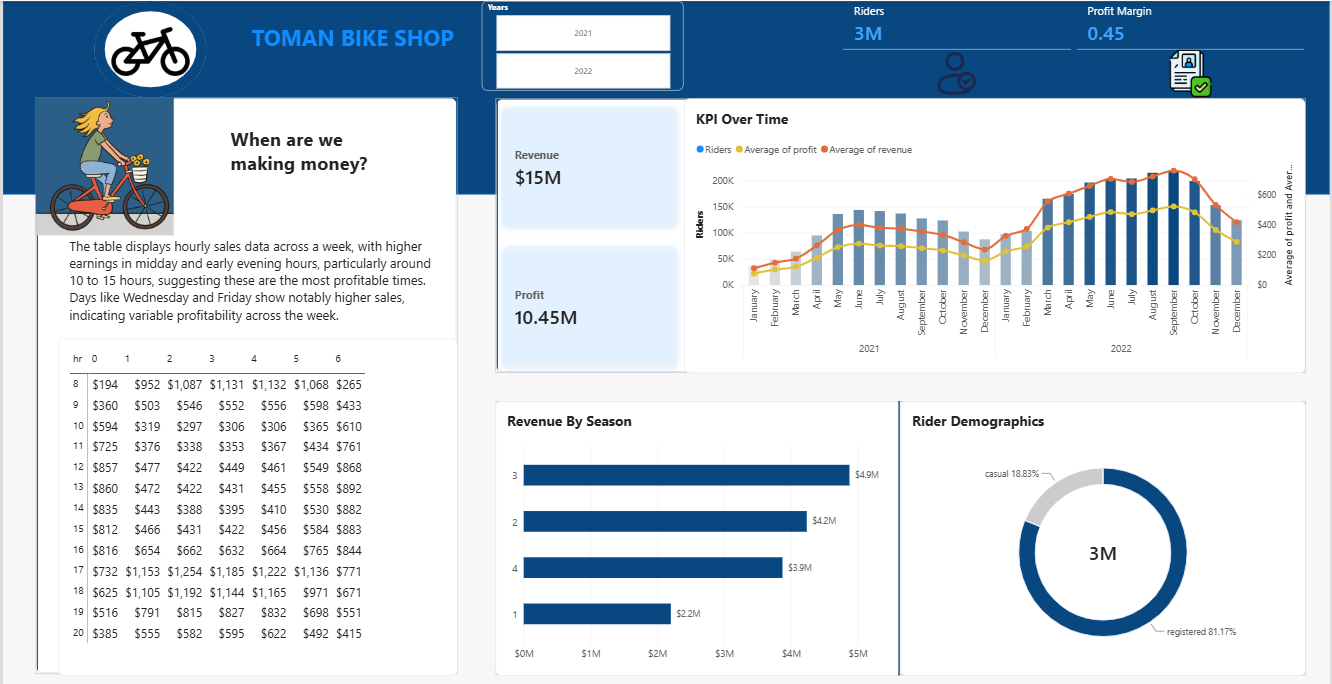

The page's visual inventory and layout, read from the dashboard file:
{"tool":"powerbi","page":{"name":"Page 1","canvas":[1920,1080],"ordinal":0},"visuals":[{"type":"shape","box":[0,0,1920.4,279.9],"z":0},{"type":"cardVisual","fields":{"Data":["Min(Query1.riders)"]},"box":[47.3,140,611.3,835.7],"z":1000},{"type":"cardVisual","fields":{"Data":["Min(Query1.riders)"]},"box":[712.2,142,1173.2,397.3],"z":2000},{"type":"cardVisual","fields":{"Data":["Min(Query1.riders)"]},"box":[712.2,578.4,1173.2,397.3],"z":3000},{"type":"pivotTable","fields":{"Columns":["Query1.weekday"],"Rows":["Query1.hr"],"Values":["Avg(Query1.revenue)"]},"box":[80.3,487.8,578.4,487.8],"z":5000},{"type":"textbox","box":[329.3,181.1,226.4,98.8],"z":6000},{"type":"textbox","box":[96.7,341.7,524.9,300.5],"z":7000},{"type":"lineClusteredColumnComboChart","title":"KPI Over Time","fields":{"Category":["Query1.dteday.Variation.Date Hierarchy.Year","Query1.dteday.Variation.Date Hierarchy.Month"],"Y":["Sum(Query1.riders)"],"Y2":["Avg(Query1.profit)","Avg(Query1.revenue)"]},"box":[985.9,142,899.5,397.3],"z":8000},{"type":"clusteredBarChart","title":"Revenue By Season","fields":{"Category":["Query1.season"],"Y":["Sum(Query1.revenue)"]},"box":[712.2,578.4,586.6,397.3],"z":9000},{"type":"donutChart","title":"Rider Demographics","fields":{"Category":["Query1.rider_type"],"Y":["Sum(Query1.riders)"]},"box":[1298.8,578.4,586.6,397.3],"z":10000},{"type":"shape","box":[1187.7,578.4,220.2,397.3],"z":11000},{"type":"cardVisual","title":"KPI Over Time","fields":{"Data":["Sum(Query1.revenue)","Sum(Query1.profit)"]},"box":[712.2,144.1,273.8,397.3],"z":12000},{"type":"cardVisual","fields":{"Data":["Sum(Query1.riders)","Query1.Profit Margin"]},"box":[1216.5,0,669,140],"z":13000},{"type":"shape","box":[131.7,0,162.6,140],"z":13001},{"type":"image","box":[152.3,16.5,123.5,113.2],"z":13002},{"type":"textbox","box":[360.2,30.9,300,300],"z":13003},{"type":"slicer","fields":{"Values":["Query1.Years"]},"box":[693.7,0,292.3,129.7],"z":13004},{"type":"image","box":[0,140,294.3,199.7],"z":13005}]}

Visuals, with their boxes on the page's 1920x1080 design canvas (x1, y1, x2, y2). These are canvas units, not pixel positions in the 1332x684 screenshot, which may show the page scaled, cropped or inside an application window:
shape: box=[0, 0, 1920, 280]
cardVisual - Min(Query1.riders): box=[47, 140, 659, 976]
cardVisual - Min(Query1.riders): box=[712, 142, 1885, 539]
cardVisual - Min(Query1.riders): box=[712, 578, 1885, 976]
pivotTable - Query1.weekday x Query1.hr: box=[80, 488, 659, 976]
textbox: box=[329, 181, 556, 280]
textbox: box=[97, 342, 622, 642]
"KPI Over Time" lineClusteredColumnComboChart: box=[986, 142, 1885, 539]
"Revenue By Season" clusteredBarChart: box=[712, 578, 1299, 976]
"Rider Demographics" donutChart: box=[1299, 578, 1885, 976]
shape: box=[1188, 578, 1408, 976]
"KPI Over Time" cardVisual: box=[712, 144, 986, 541]
cardVisual - Sum(Query1.riders) x Query1.Profit Margin: box=[1216, 0, 1886, 140]
shape: box=[132, 0, 294, 140]
image: box=[152, 16, 276, 130]
textbox: box=[360, 31, 660, 331]
slicer - Query1.Years: box=[694, 0, 986, 130]
image: box=[0, 140, 294, 340]
